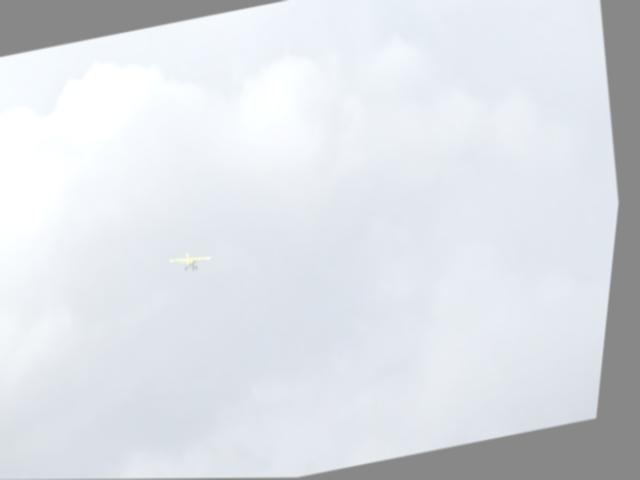plane: (172, 248, 220, 277)
